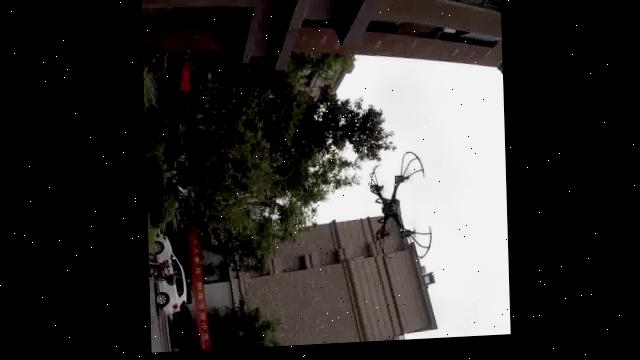drone: (356, 150, 430, 265)
